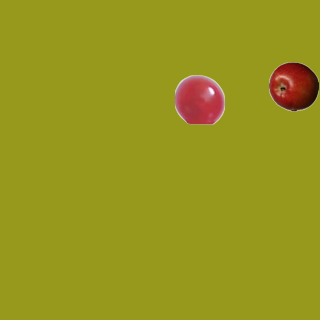Apple Braeburn: (268, 61, 318, 111)
Redcurrant: (174, 74, 224, 124)
